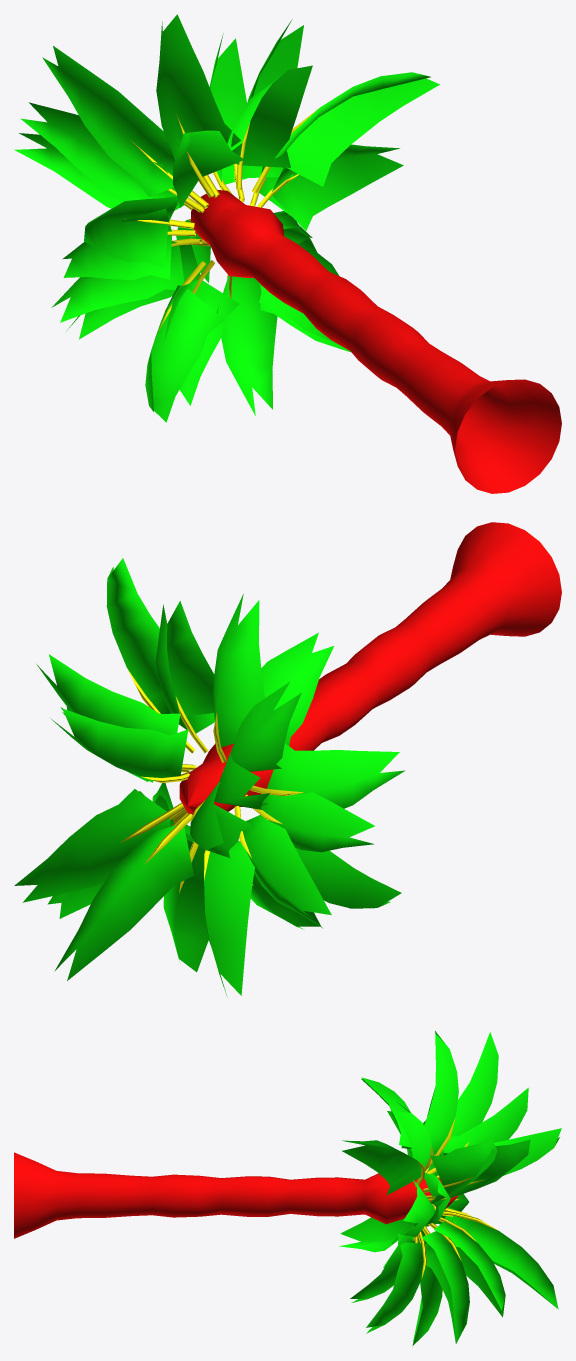
Rendered from M_P10_Tree_5.FBX.
3 views of the same model, one above another, from view 1: azimuth 30°, elevation 25°; view 2: azimuth 150°, elevation 25°; view 3: azimuth 270°, elevation 25° (orthographic). The views are drawn at different scales.
Parts seen in each view (by area): view 1: M_P10_Tree_5_LOD0; view 2: M_P10_Tree_5_LOD0; view 3: M_P10_Tree_5_LOD0.
Boxes of the visible parts, left/top/right/bottom form: M_P10_Tree_5_LOD0: left=14, top=14, right=561, bottom=493; M_P10_Tree_5_LOD0: left=14, top=522, right=561, bottom=996; M_P10_Tree_5_LOD0: left=14, top=1031, right=561, bottom=1345.
Size of the model in its own units: 264 by 533 by 309.
